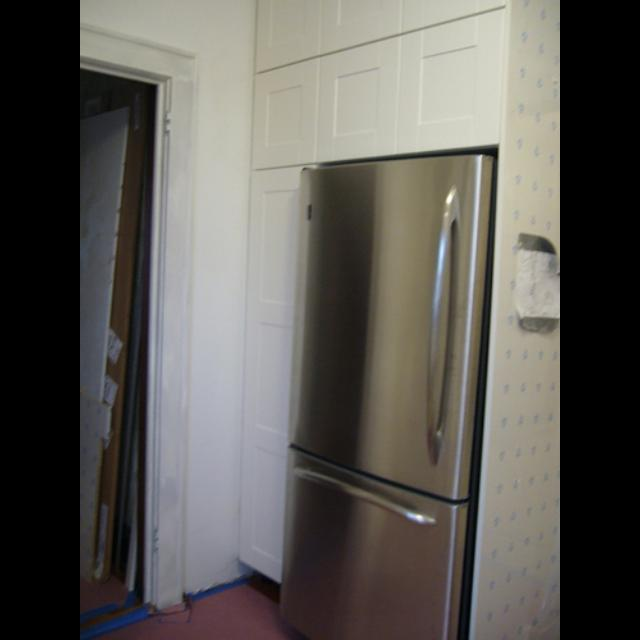Refrigerator: (280, 155, 495, 640)
